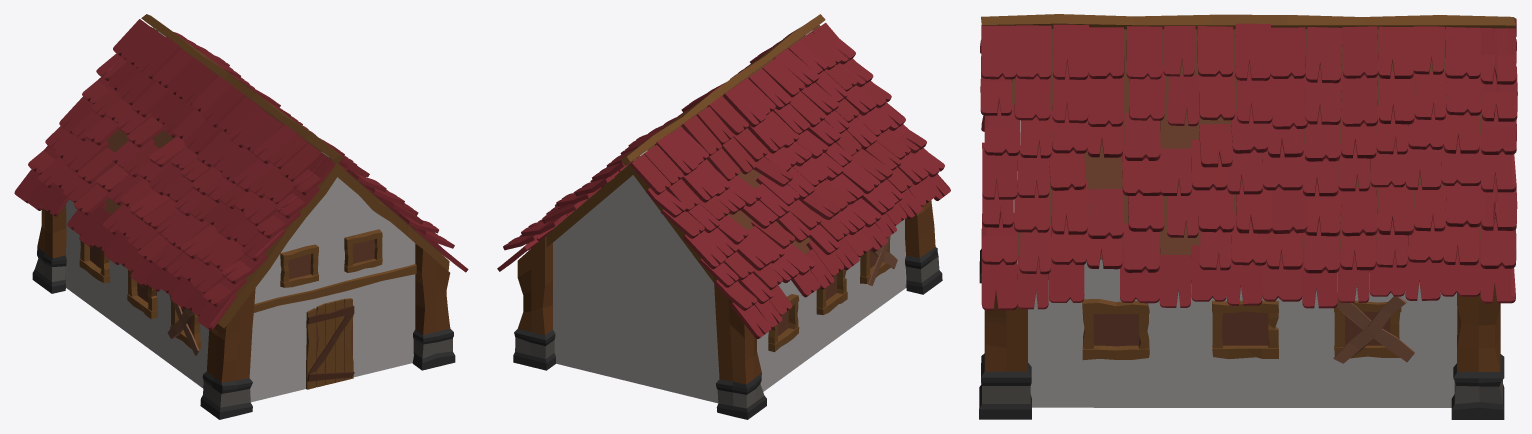
The model's file is Haus_1.fbx.
3 views of the same model, side by side, from view 1: azimuth 30°, elevation 25°; view 2: azimuth 150°, elevation 25°; view 3: azimuth 270°, elevation 25° (orthographic). The views are drawn at different scales.
Parts seen in each view (by area): view 1: Haus1; view 2: Haus1; view 3: Haus1.
Boxes of the visible parts, x1=… form: Haus1: x1=14, y1=14, x2=468, y2=419; Haus1: x1=497, y1=14, x2=950, y2=419; Haus1: x1=979, y1=14, x2=1517, y2=419.
Size of the model in its own units: 643 by 553 by 823.
